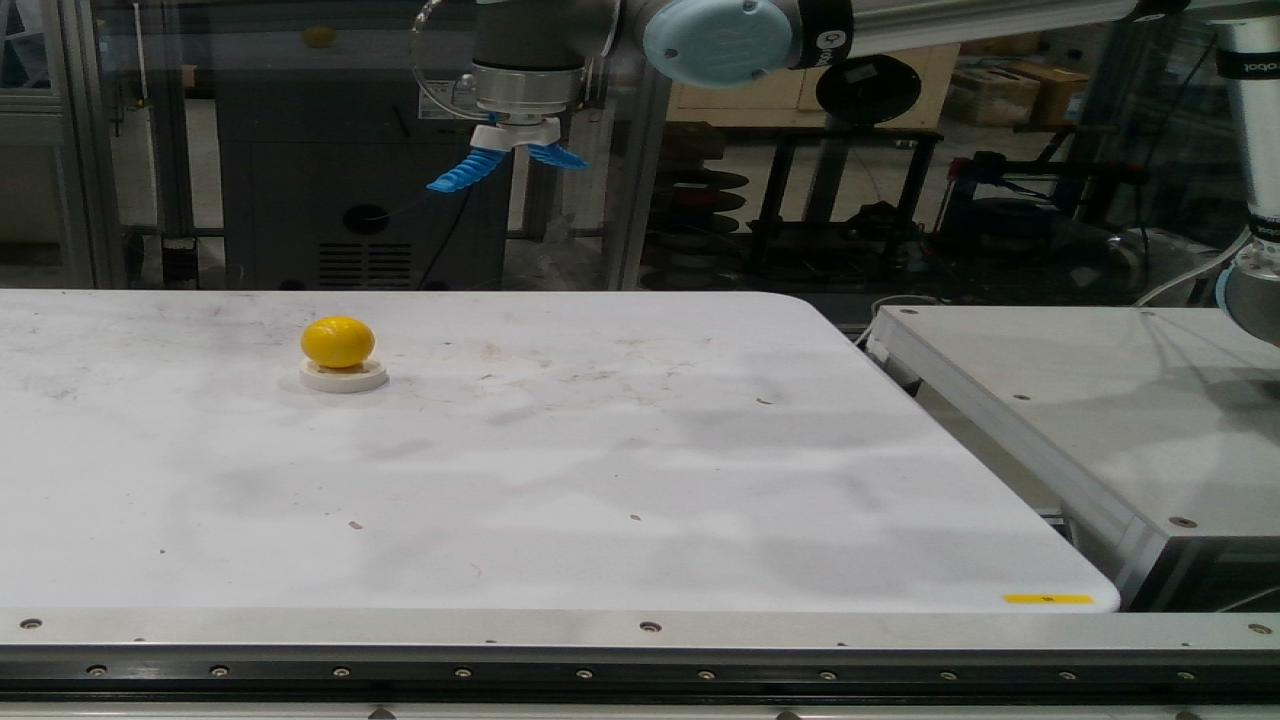UR5: (461, 0, 1279, 345)
gripper_left: (527, 142, 588, 169)
gripper_right: (427, 149, 505, 192)
target: (301, 316, 375, 370), (298, 359, 389, 394)
